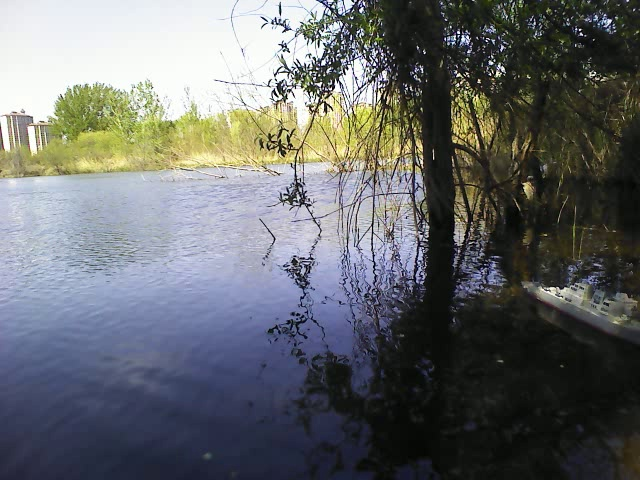warship: (520, 271, 635, 347)
